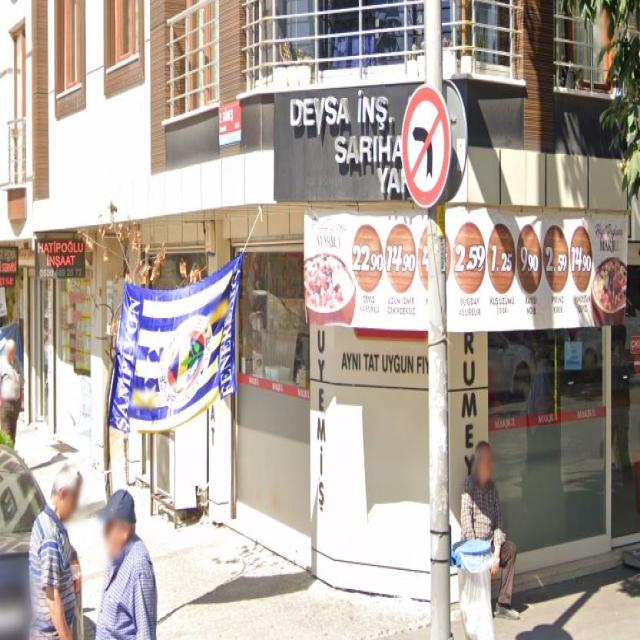soladonulmez: (401, 84, 450, 209)
